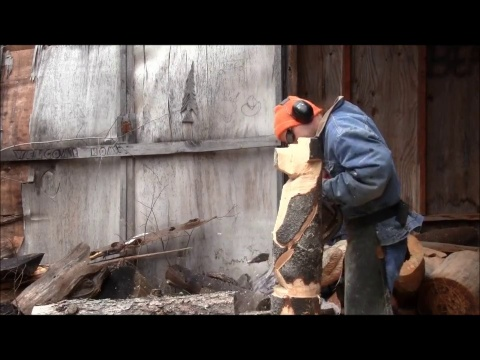person: (263, 89, 461, 313), (258, 92, 353, 312)
